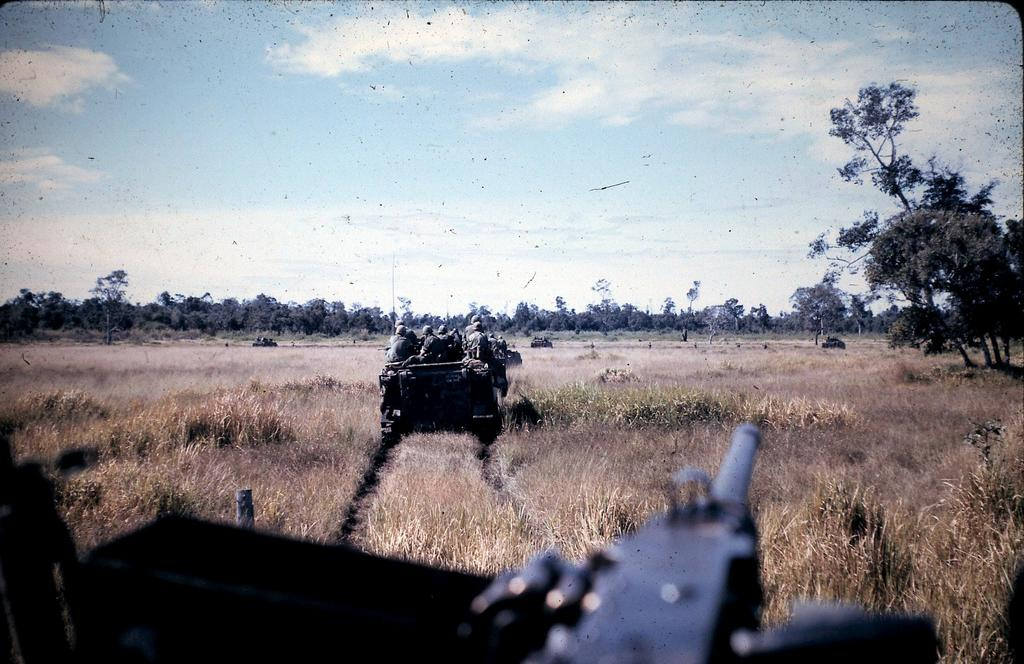Tree: (812, 110, 1011, 391), (0, 277, 709, 332), (74, 256, 129, 352), (772, 274, 857, 335), (587, 268, 616, 346), (843, 283, 873, 327), (746, 292, 773, 335), (722, 291, 744, 337)
